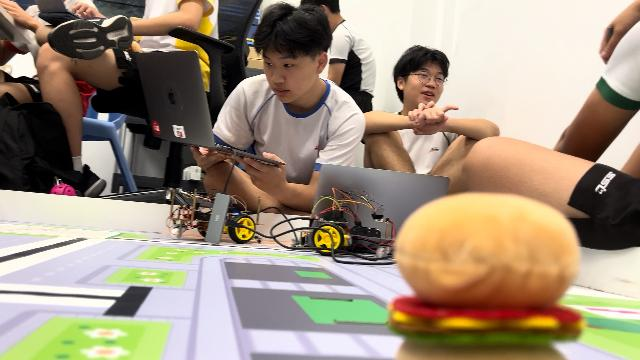burger: (387, 192, 587, 360)
